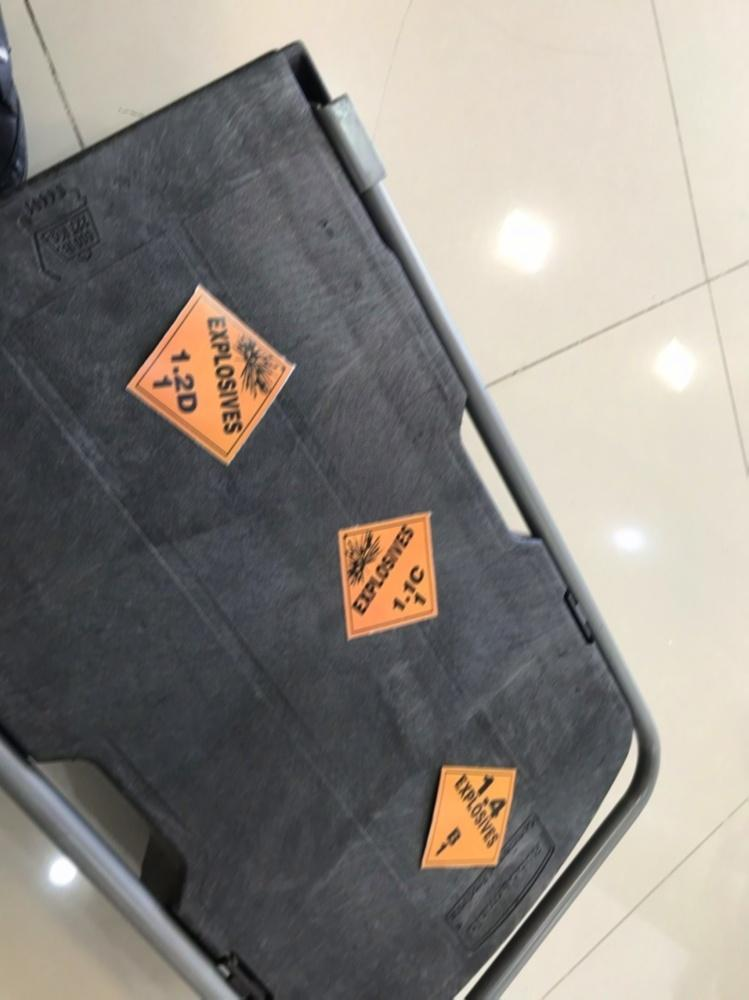explosive: (128, 286, 299, 469), (332, 515, 447, 641), (419, 761, 519, 882)
